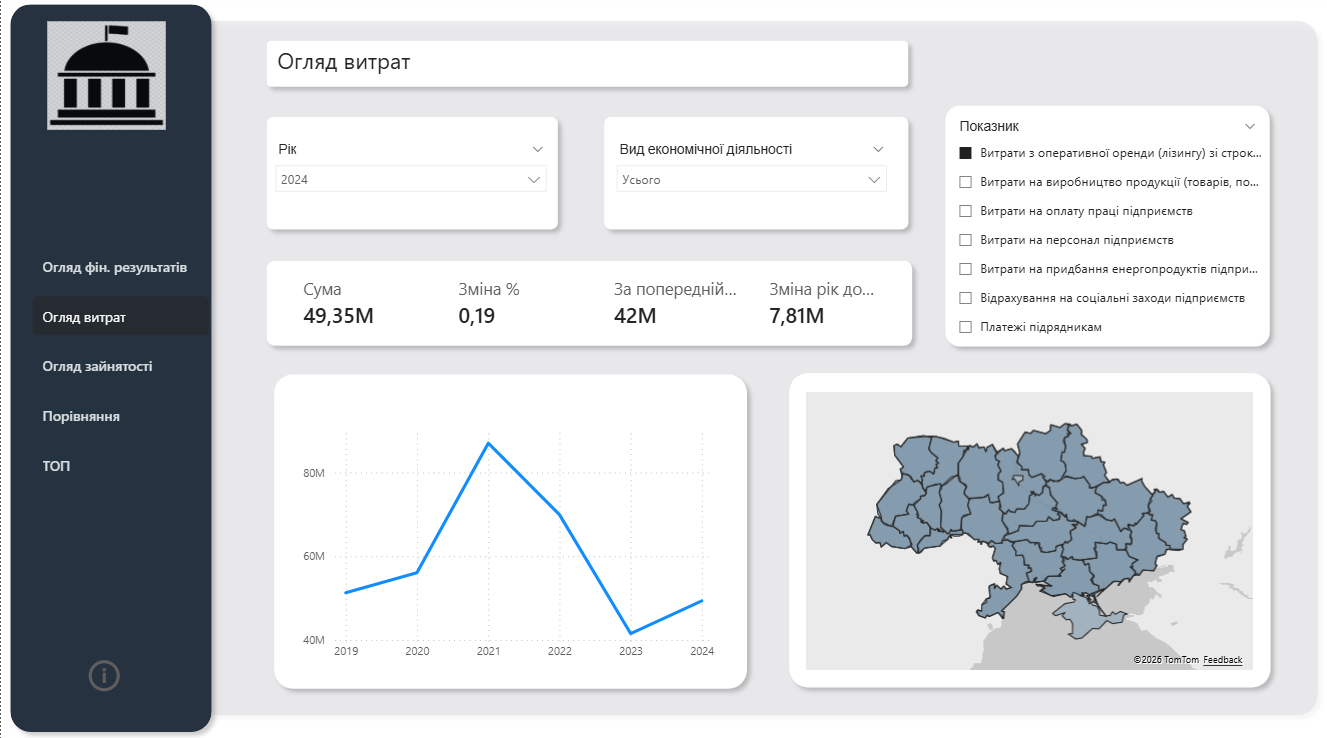

Layout of this report page (visuals, bound fields, positions):
{"tool":"powerbi","page":{"name":"Огляд витрат","canvas":[1280,720],"ordinal":1},"visuals":[{"type":"group","id":"g1","title":"Основа","box":[0,0,1280,720.2],"z":0},{"type":"shape","box":[0,15.3,1280,688.7],"z":0,"group":"g1"},{"type":"shape","box":[247.7,34.8,637.2,62.6],"z":0,"group":"g8"},{"type":"shape","box":[903,97.4,331.1,250.4],"z":0,"group":"g5"},{"type":"shape","box":[247.7,108.5,299.1,126.6],"z":0,"group":"g7"},{"type":"shape","box":[573.2,108.5,311.7,126.6],"z":0,"group":"g6"},{"type":"shape","box":[247.7,247.7,641,100.2],"z":0,"group":"g4"},{"type":"shape","box":[751.3,356.2,482.8,321.4],"z":0,"group":"g2"},{"type":"shape","box":[254.6,357.6,474.4,321.4],"z":0,"group":"g3"},{"type":"shape","box":[0,0,212.3,720.2],"z":1000,"group":"g1"},{"type":"textbox","box":[261.6,43.1,154.4,45.9],"z":1000,"group":"g8"},{"type":"slicer","fields":{"Values":["Fact_Expenses.Показник"]},"box":[913.2,113.8,311.7,223.8],"z":1000,"group":"g5"},{"type":"slicer","fields":{"Values":["Dim_Activity.Вид економічної діяльності"]},"box":[583.5,136,280.9,80.7],"z":1000,"group":"g6"},{"type":"slicer","fields":{"Values":["Dim_Date.Рік"]},"box":[254.5,136.5,281.8,80.7],"z":1000,"group":"g7"},{"type":"cardVisual","fields":{"Data":["Fact_Expenses.EXP Значення","Fact_Expenses.EXP % Зміна YoY","Fact_Expenses.EXP Значення PY","Fact_Expenses.EXP Зміна YoY"]},"box":[267,251,626.3,91.8],"z":1000,"group":"g4"},{"type":"azureMap","fields":{"Category":["Dim_Region.Область"]},"box":[772.2,378.6,441,277.8],"z":1000,"group":"g2"},{"type":"lineChart","fields":{"Category":["Dim_Date.Рік"],"Y":["Fact_Expenses.EXP Значення"]},"box":[286.2,406.7,407.7,244.2],"z":1000,"group":"g3"},{"type":"actionButton","box":[80,637.1,45.7,40],"z":2000,"group":"g1"},{"type":"pageNavigator","box":[30.7,242.9,171.9,234.4],"z":3000,"group":"g1"},{"type":"group","id":"g2","title":"Карта","box":[751.3,356.2,482.8,321.4],"z":3000},{"type":"image","box":[44.9,25.3,114.6,105],"z":4000,"group":"g1"},{"type":"group","id":"g3","title":"Графік","box":[254.6,357.6,474.4,321.4],"z":4000},{"type":"group","id":"g4","title":"KPI","box":[247.7,247.7,645.6,100.2],"z":5000},{"type":"group","id":"g5","title":"Показник","box":[903,97.4,331.1,250.4],"z":5250},{"type":"group","id":"g6","title":"Вид діяльності","box":[573.2,108.5,311.7,126.6],"z":5500},{"type":"group","id":"g7","title":"Рік","box":[247.7,108.5,299.1,126.6],"z":6000},{"type":"group","id":"g8","title":"Заголовок","box":[247.7,34.8,637.2,62.6],"z":7000}]}

Visuals, with their boxes on the page's 1280x720 design canvas (x1, y1, x2, y2). These are canvas units, not pixel positions in the 1327x738 screenshot, which may show the page scaled, cropped or inside an application window:
"Основа" group: {"left": 0, "top": 0, "right": 1280, "bottom": 720}
shape: {"left": 0, "top": 15, "right": 1280, "bottom": 704}
shape: {"left": 248, "top": 35, "right": 885, "bottom": 97}
shape: {"left": 903, "top": 97, "right": 1234, "bottom": 348}
shape: {"left": 248, "top": 108, "right": 547, "bottom": 235}
shape: {"left": 573, "top": 108, "right": 885, "bottom": 235}
shape: {"left": 248, "top": 248, "right": 889, "bottom": 348}
shape: {"left": 751, "top": 356, "right": 1234, "bottom": 678}
shape: {"left": 255, "top": 358, "right": 729, "bottom": 679}
shape: {"left": 0, "top": 0, "right": 212, "bottom": 720}
textbox: {"left": 262, "top": 43, "right": 416, "bottom": 89}
slicer - Fact_Expenses.Показник: {"left": 913, "top": 114, "right": 1225, "bottom": 338}
slicer - Dim_Activity.Вид економічної діяльності: {"left": 584, "top": 136, "right": 864, "bottom": 217}
slicer - Dim_Date.Рік: {"left": 254, "top": 136, "right": 536, "bottom": 217}
cardVisual - Fact_Expenses.EXP Значення x Fact_Expenses.EXP % Зміна YoY: {"left": 267, "top": 251, "right": 893, "bottom": 343}
azureMap - Dim_Region.Область: {"left": 772, "top": 379, "right": 1213, "bottom": 656}
lineChart - Dim_Date.Рік x Fact_Expenses.EXP Значення: {"left": 286, "top": 407, "right": 694, "bottom": 651}
actionButton: {"left": 80, "top": 637, "right": 126, "bottom": 677}
pageNavigator: {"left": 31, "top": 243, "right": 203, "bottom": 477}
"Карта" group: {"left": 751, "top": 356, "right": 1234, "bottom": 678}
image: {"left": 45, "top": 25, "right": 160, "bottom": 130}
"Графік" group: {"left": 255, "top": 358, "right": 729, "bottom": 679}
"KPI" group: {"left": 248, "top": 248, "right": 893, "bottom": 348}
"Показник" group: {"left": 903, "top": 97, "right": 1234, "bottom": 348}
"Вид діяльності" group: {"left": 573, "top": 108, "right": 885, "bottom": 235}
"Рік" group: {"left": 248, "top": 108, "right": 547, "bottom": 235}
"Заголовок" group: {"left": 248, "top": 35, "right": 885, "bottom": 97}
